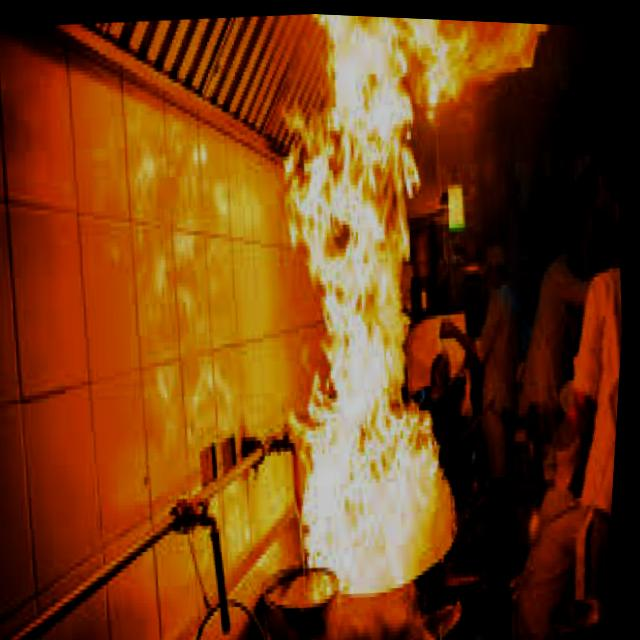Fire: (256, 10, 508, 584), (292, 10, 558, 108)
